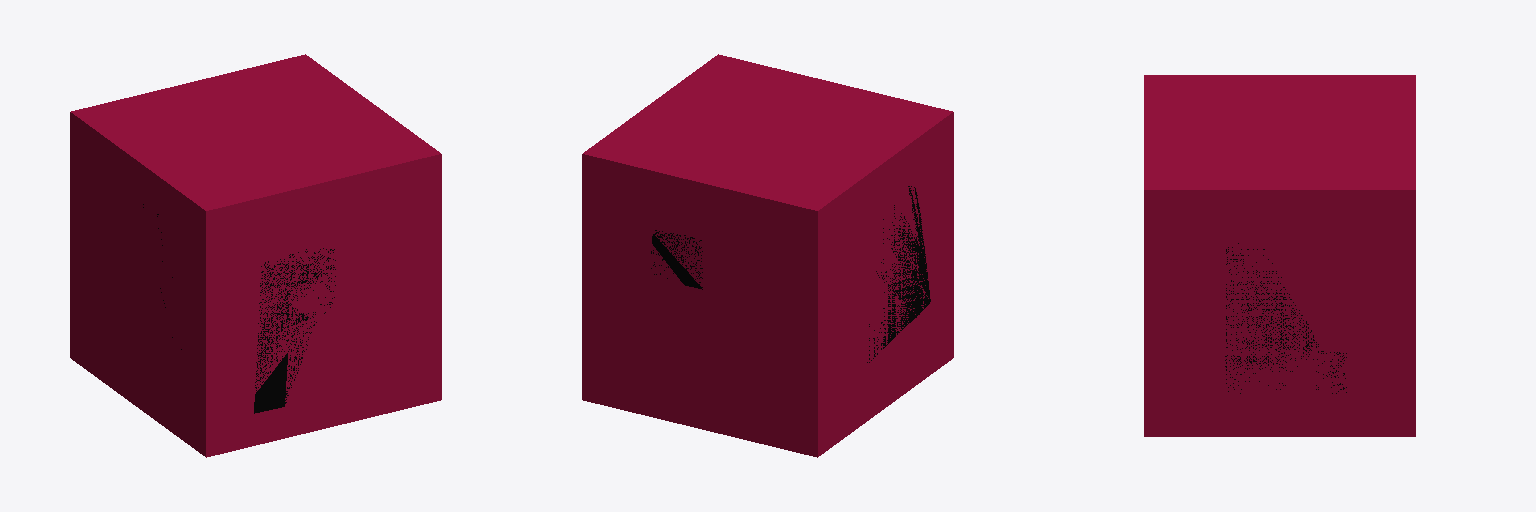
The model's file is player_cube.obj.
3 views of the same model, side by side, from view 1: azimuth 30°, elevation 25°; view 2: azimuth 150°, elevation 25°; view 3: azimuth 270°, elevation 25° (orthographic).
Visible parts, largest first — view 1: Cube_Cube.001; view 2: Cube_Cube.001; view 3: Cube_Cube.001.
Boxes of the visible parts, <box> form: Cube_Cube.001: <box>70,54,441,457</box>; Cube_Cube.001: <box>582,54,953,457</box>; Cube_Cube.001: <box>1144,75,1415,436</box>.
Bounding box in the file's own units: 2 × 2 × 2.